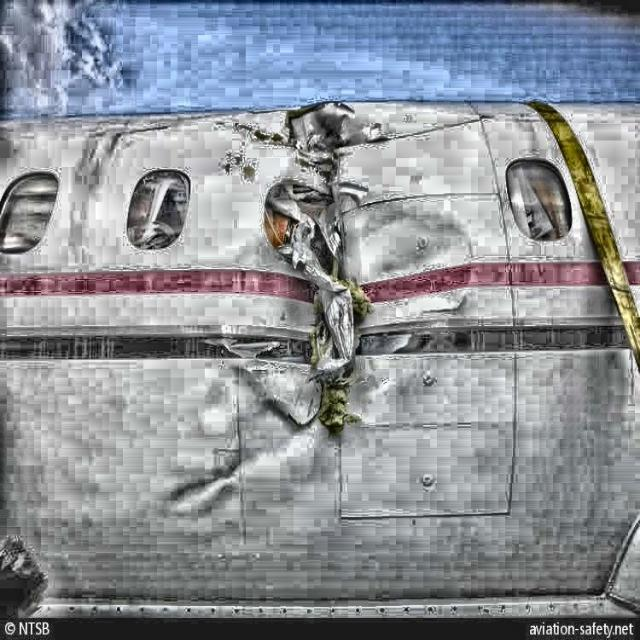crack: (277, 102, 384, 440)
